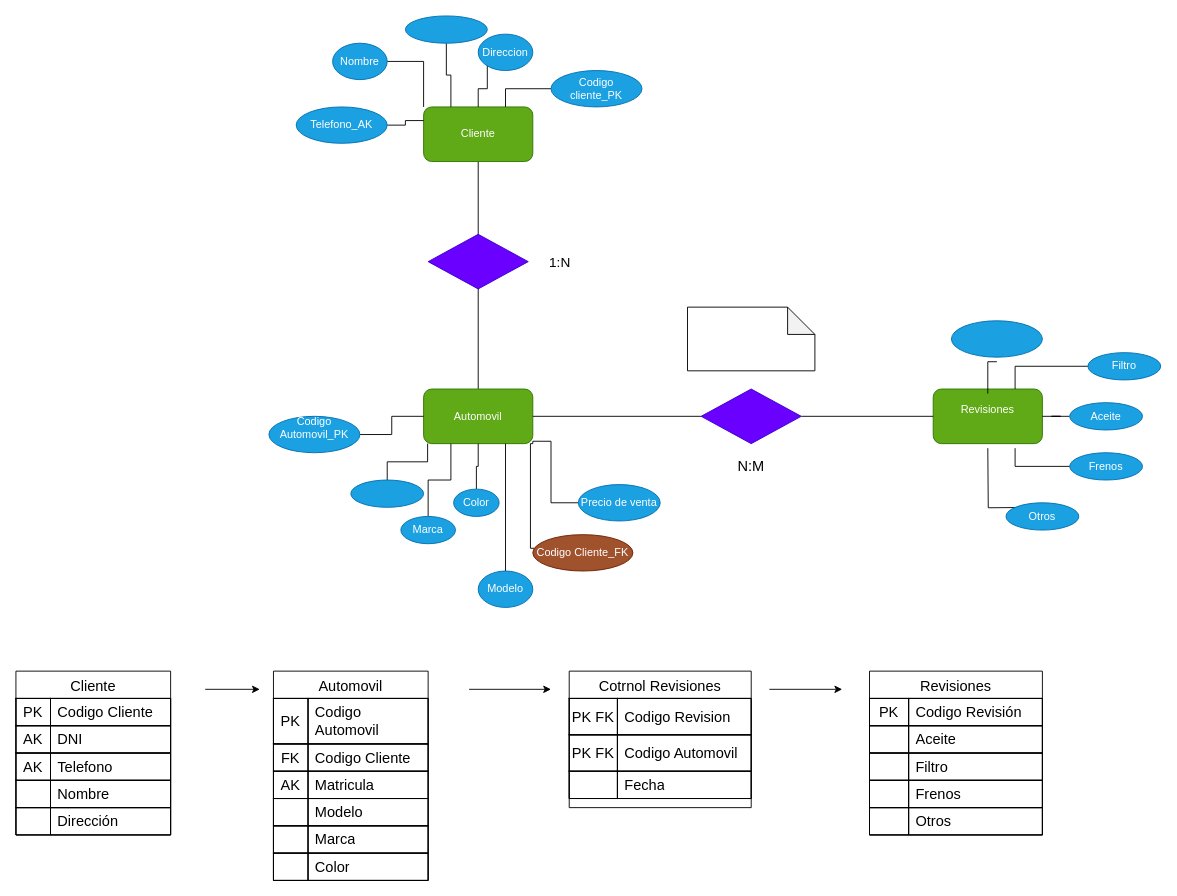
This 1177x896 diagram has some shape labels left out. The shapes that lost their labels are listed below. From the top down, each one's centre as x and y in pixels, then its label:
(445,29): DNI_AK
(477,261): Compra
(751,338): Se crea una tabla intermedia
(996,338): Codigo Revisión_PK
(750,416): Obtiene
(387,493): Matricula_AK
